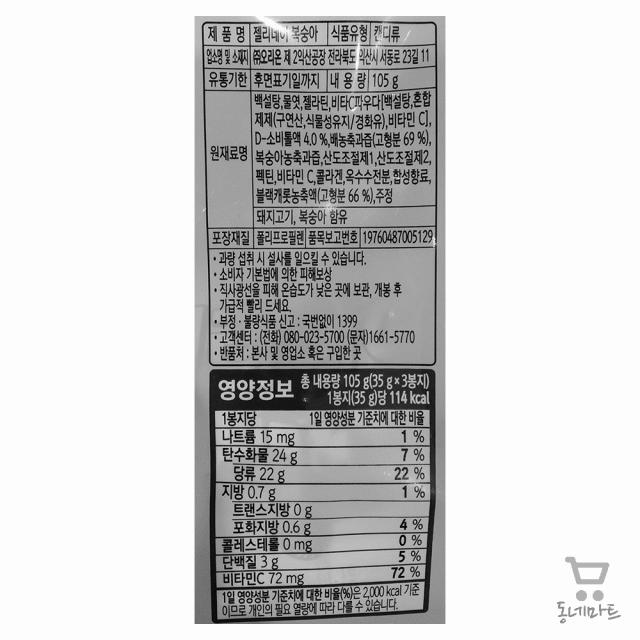Nutrition Label: (197, 369, 440, 621)
